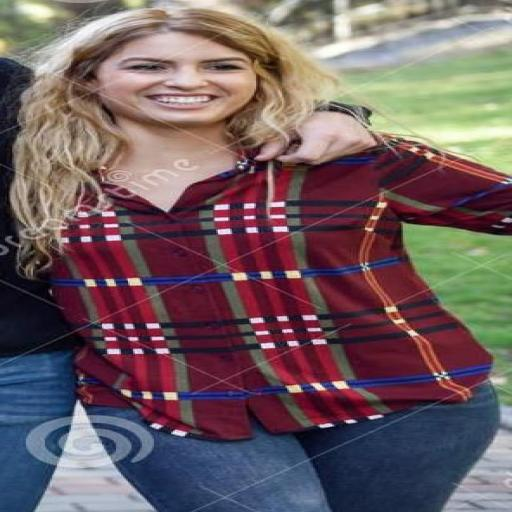person: (13, 8, 511, 511), (0, 58, 81, 511)
